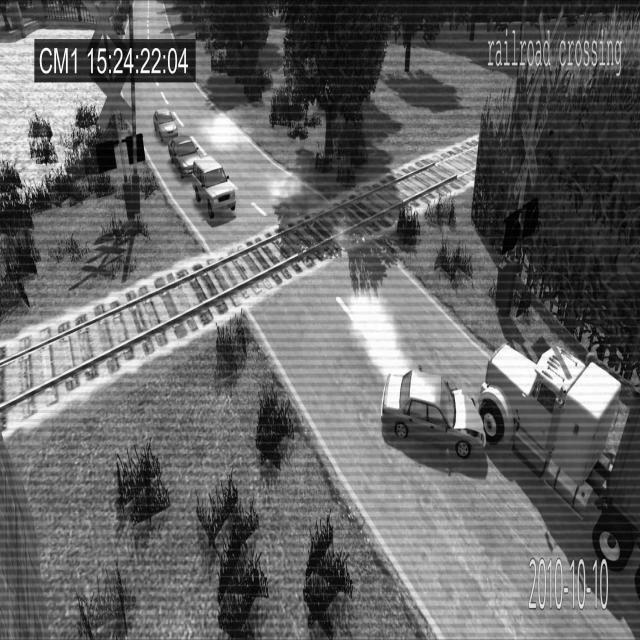accident: (373, 343, 493, 474)
vehicle: (479, 321, 639, 579), (190, 154, 238, 222), (167, 131, 202, 179), (151, 103, 177, 144)
